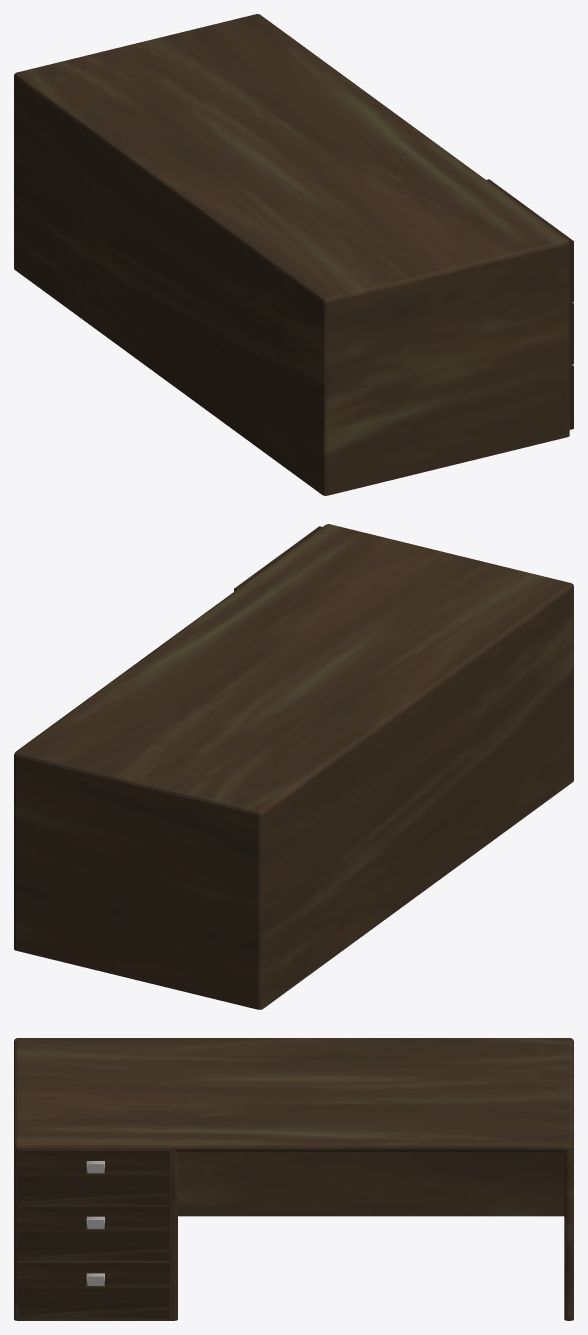
The model's file is Desk1.fbx.
3 views of the same model, one above another, from view 1: azimuth 30°, elevation 25°; view 2: azimuth 150°, elevation 25°; view 3: azimuth 270°, elevation 25° (orthographic). The views are drawn at different scales.
Parts seen in each view (by area): view 1: Desk1.001, DrawerDesk1.004; view 2: Desk1.001; view 3: Desk1.001, DrawerDesk1.004, DrawerDesk1.005, DrawerDesk1.006.
Part boxes in pixels (bbox=[...]): Desk1.001: bbox=[14, 14, 569, 495]; DrawerDesk1.004: bbox=[486, 179, 573, 302]; Desk1.001: bbox=[14, 524, 573, 1009]; Desk1.001: bbox=[14, 1038, 573, 1320]; DrawerDesk1.004: bbox=[18, 1148, 169, 1205]; DrawerDesk1.005: bbox=[18, 1261, 169, 1318]; DrawerDesk1.006: bbox=[18, 1205, 169, 1260].
Bounding box in the file's own units: 95.48 × 69.39 × 200.
